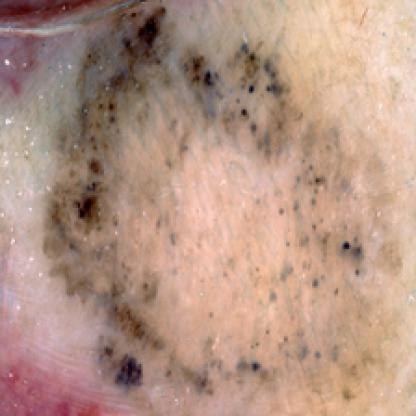malignant: (2, 0, 195, 390)
